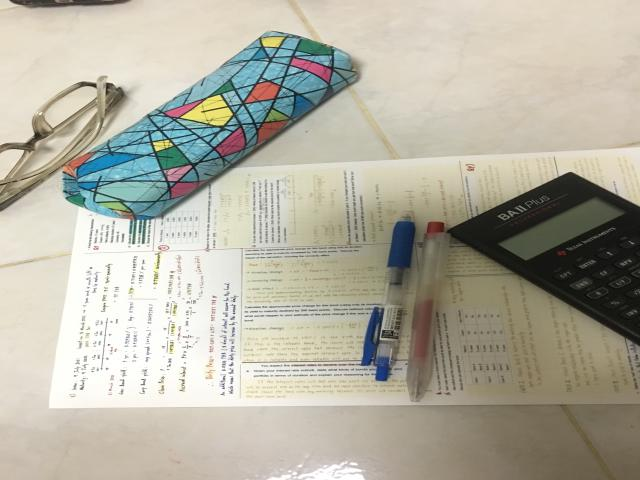Glasses: (0, 76, 123, 210)
Mobile phone: (10, 0, 128, 7)
Pen: (362, 213, 415, 382), (407, 222, 450, 402)
paper: (49, 146, 640, 409)
